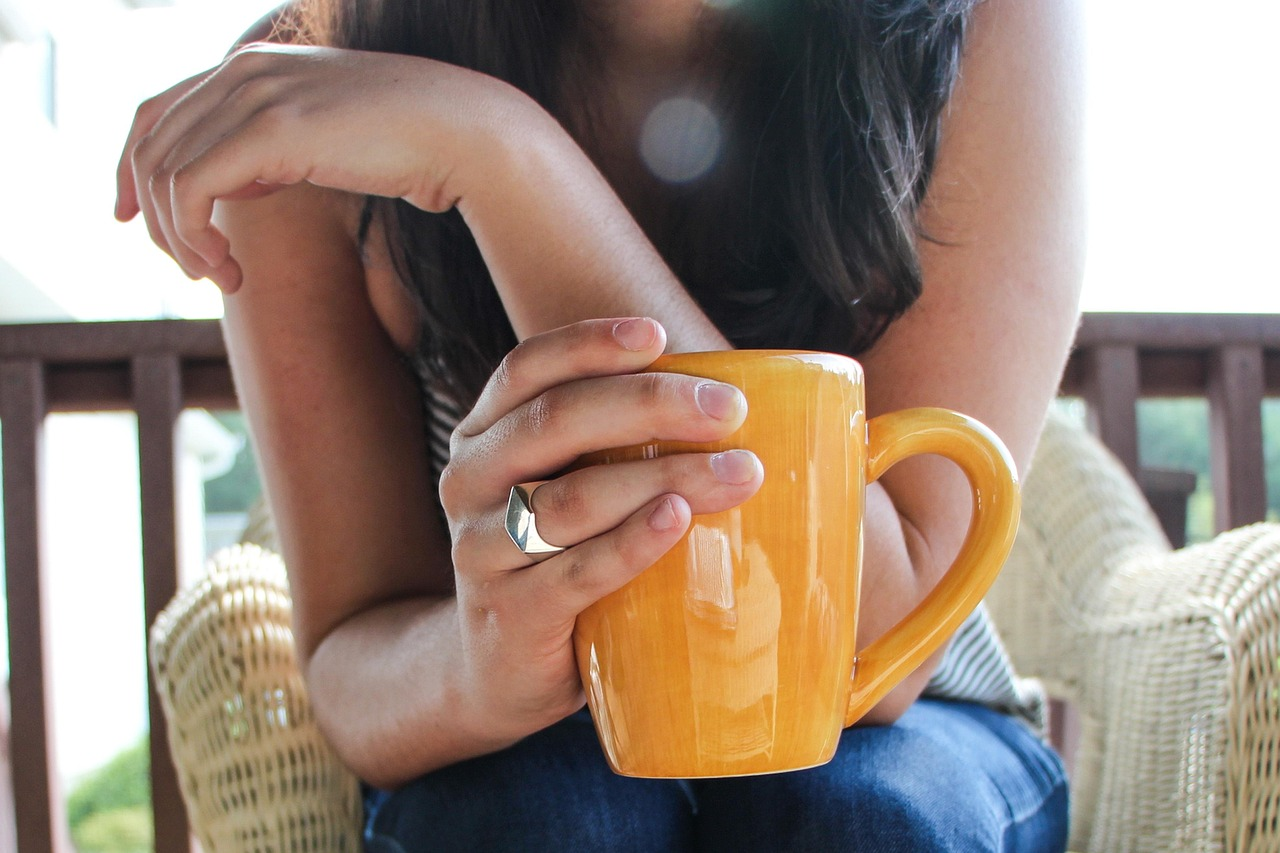mug: (533, 337, 1044, 793)
